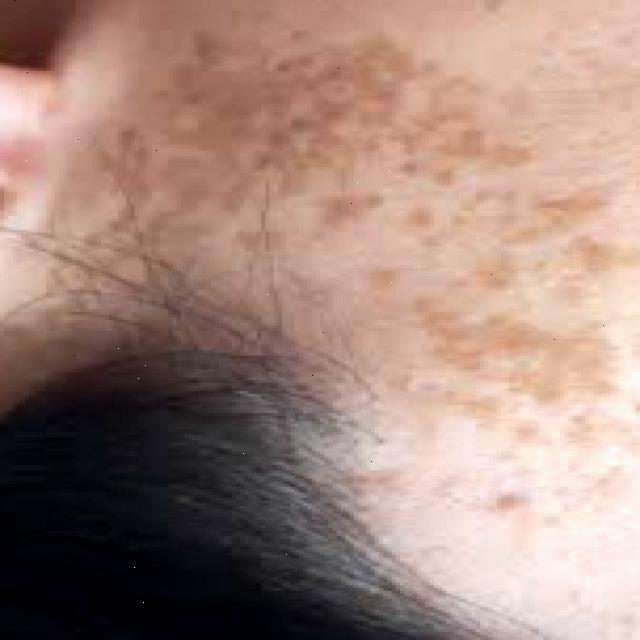Melasma: (122, 33, 634, 510)
